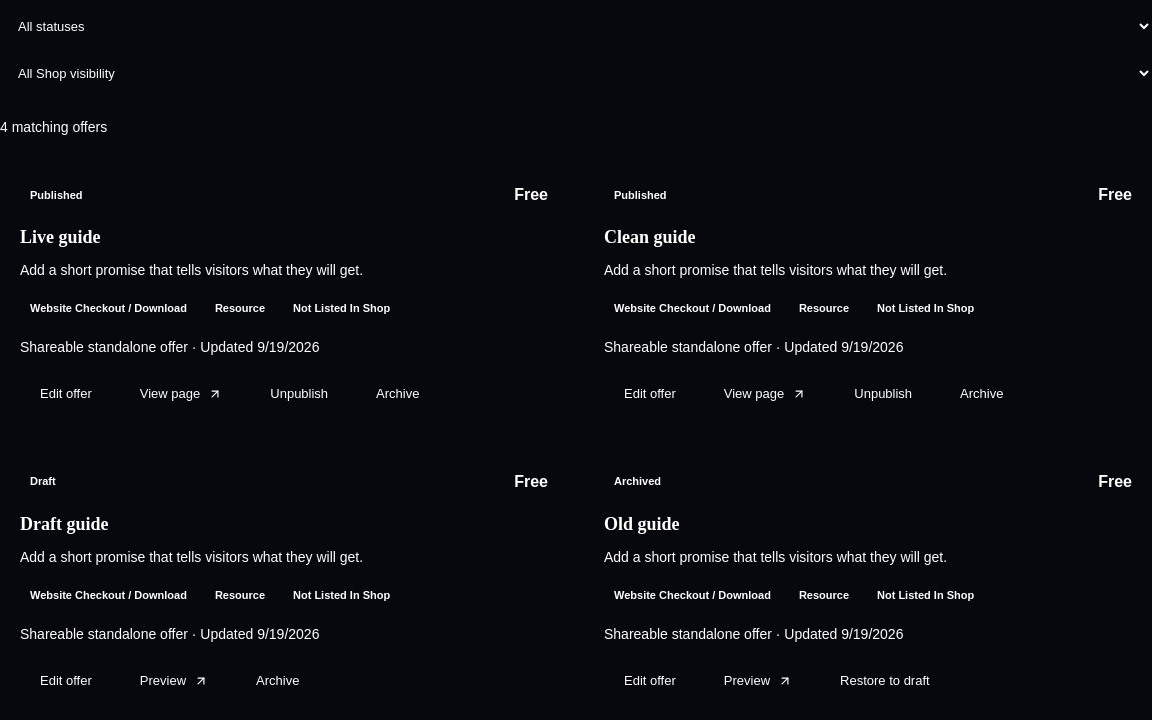
Test: offers list › archives and restores with the matching target status
The image size is (1152, 720).
(page scrolled)
Expected: the heading "Old guide" is shown, [604,514,680,534]
Click the button with aria-label "Archive: Draft guide" at x=278, y=681, box [236,661,319,700]
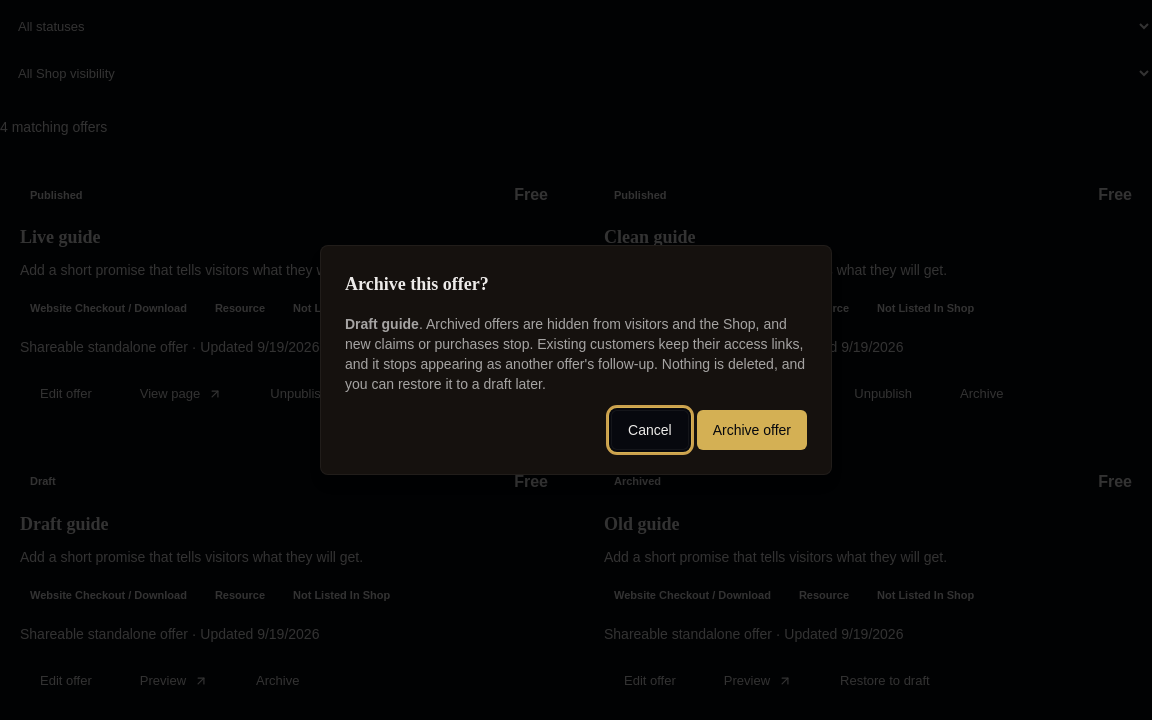
Click the button "Archive offer" at x=752, y=430, box [697,410,807,450]
(page scrolled)
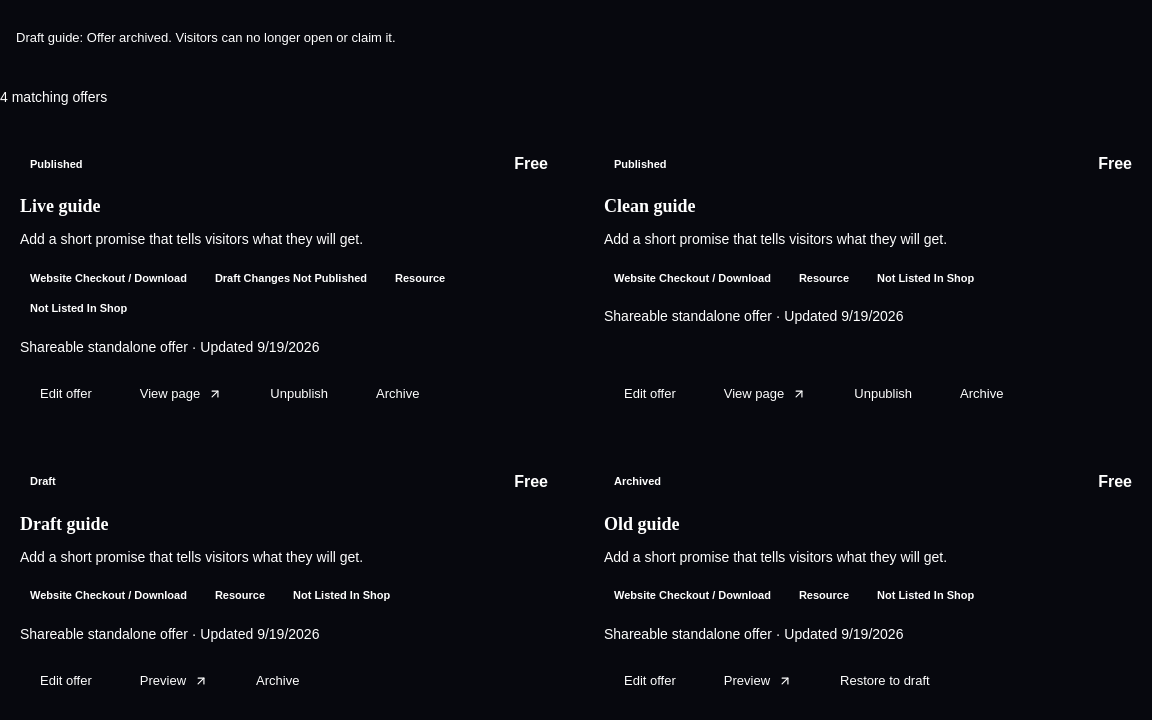
Result: the text "Draft guide: Offer archived. Visitors can no longer open or claim it." is shown at [16,30,396,46]
Click the button with aria-label "Restore to draft: Old guide" at x=885, y=681, box [820,661,950,700]
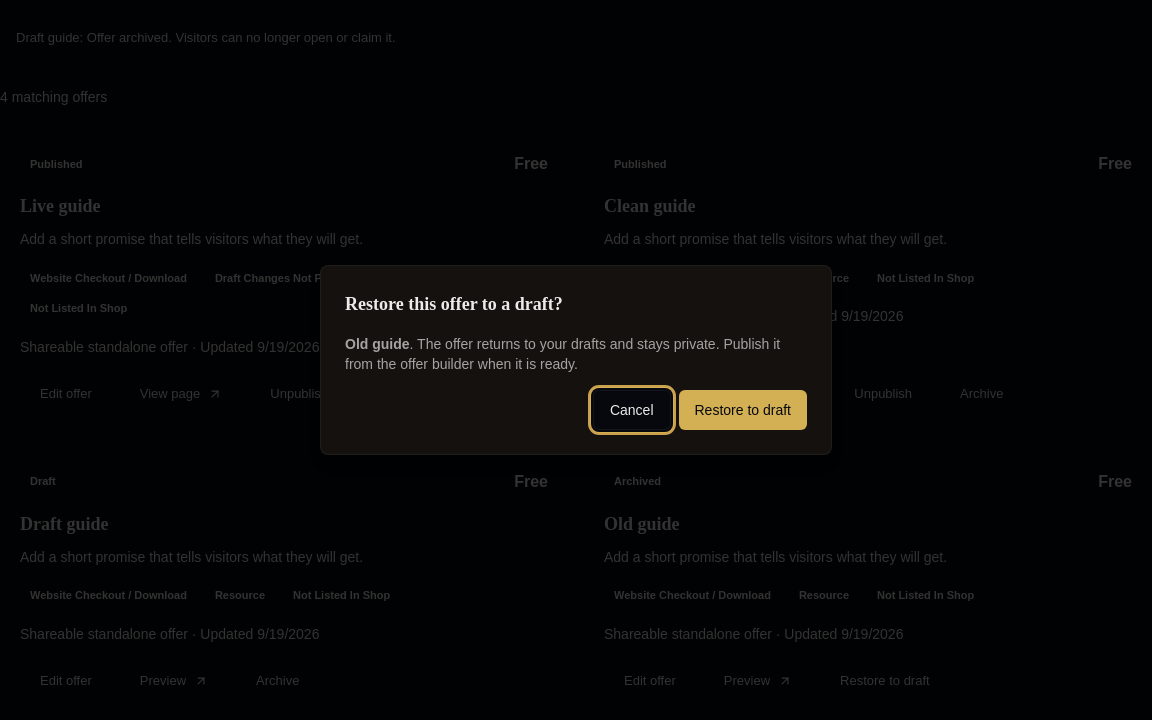
Click the button "Restore to draft" at x=743, y=410, box [678,390,807,430]
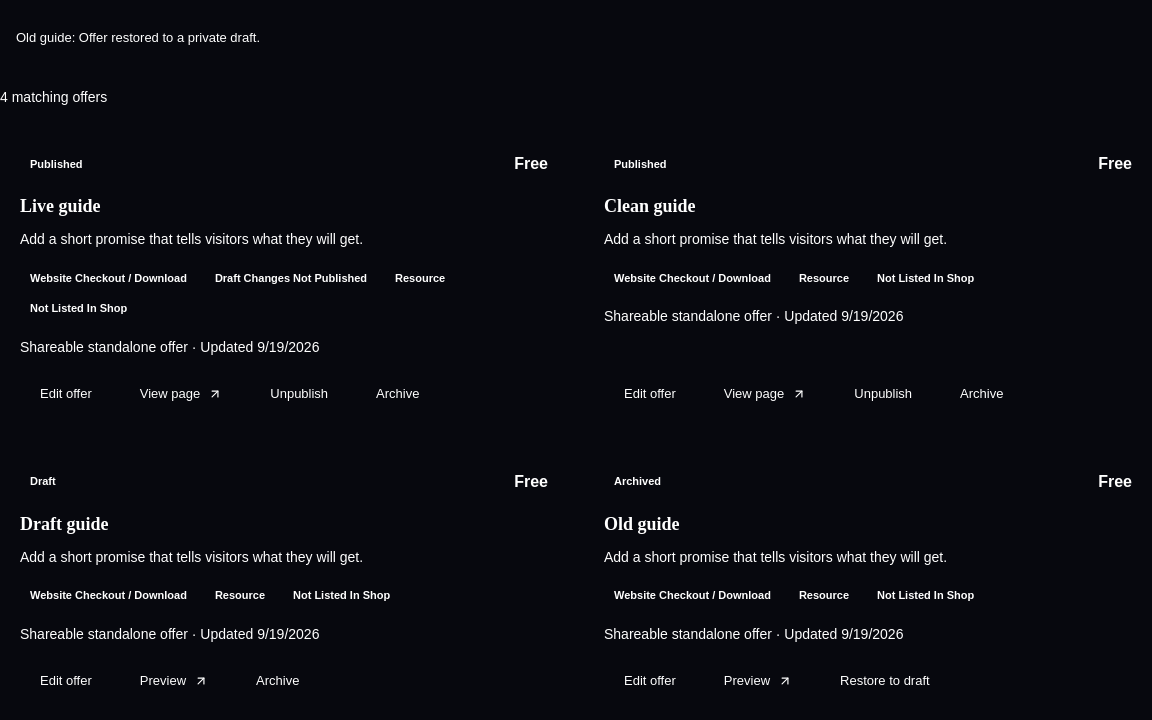
Result: the text "Old guide: Offer restored to a private draft." is shown at [16,30,260,46]
